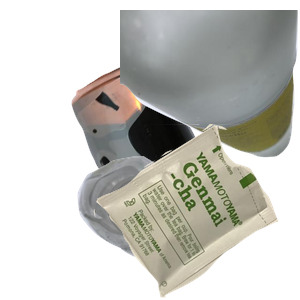glass: (120, 10, 300, 160)
metal: (69, 58, 300, 238)
plastic: (75, 154, 248, 300)
trash: (91, 124, 300, 300)
